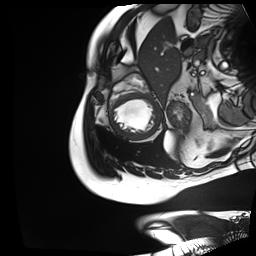ventricle: (116, 100, 154, 133)
